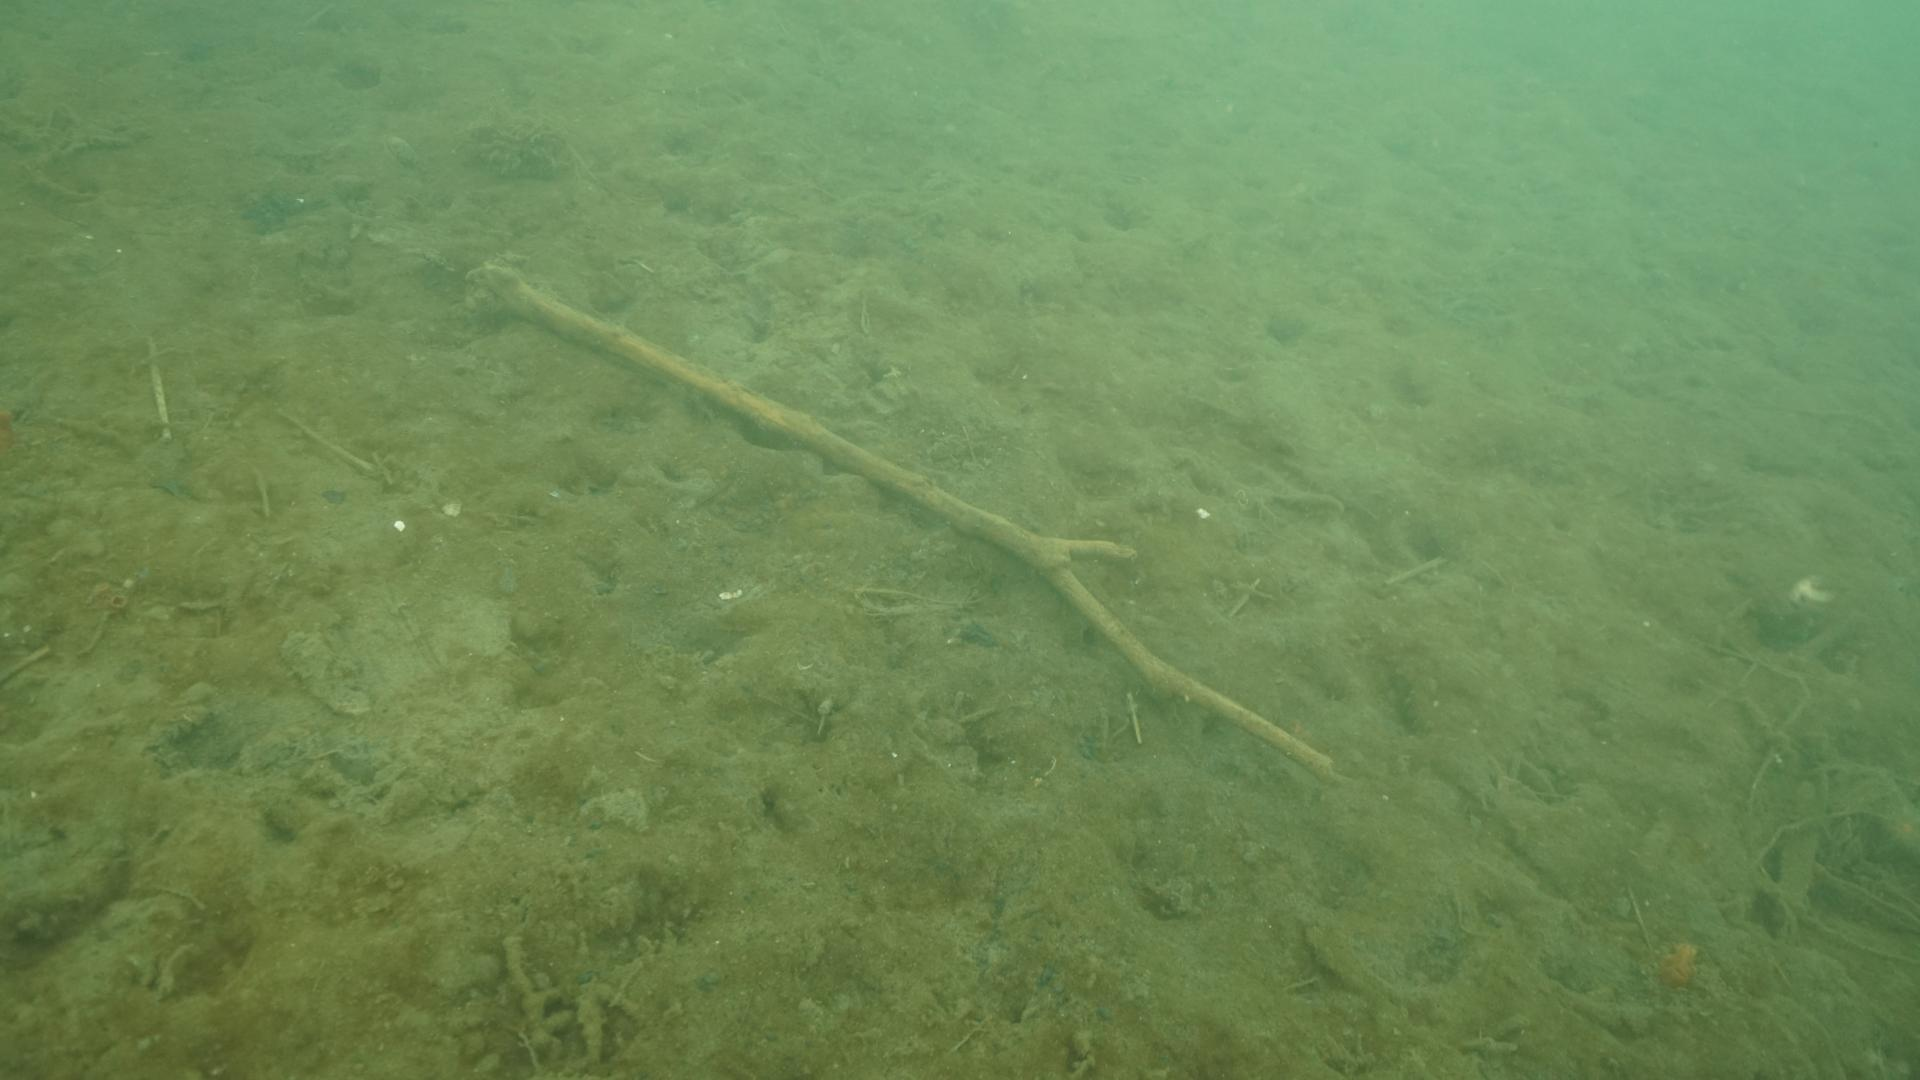wood: (464, 260, 1340, 781)
